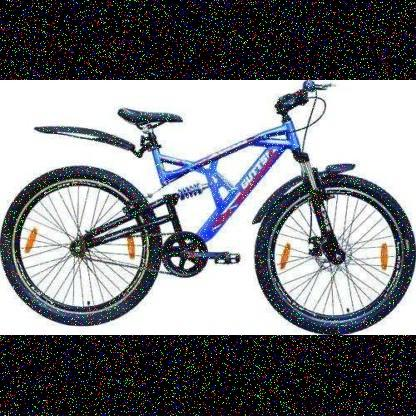Bicycle: (0, 89, 414, 328)
